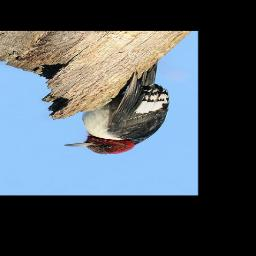Woodpecker: (63, 62, 170, 155)
